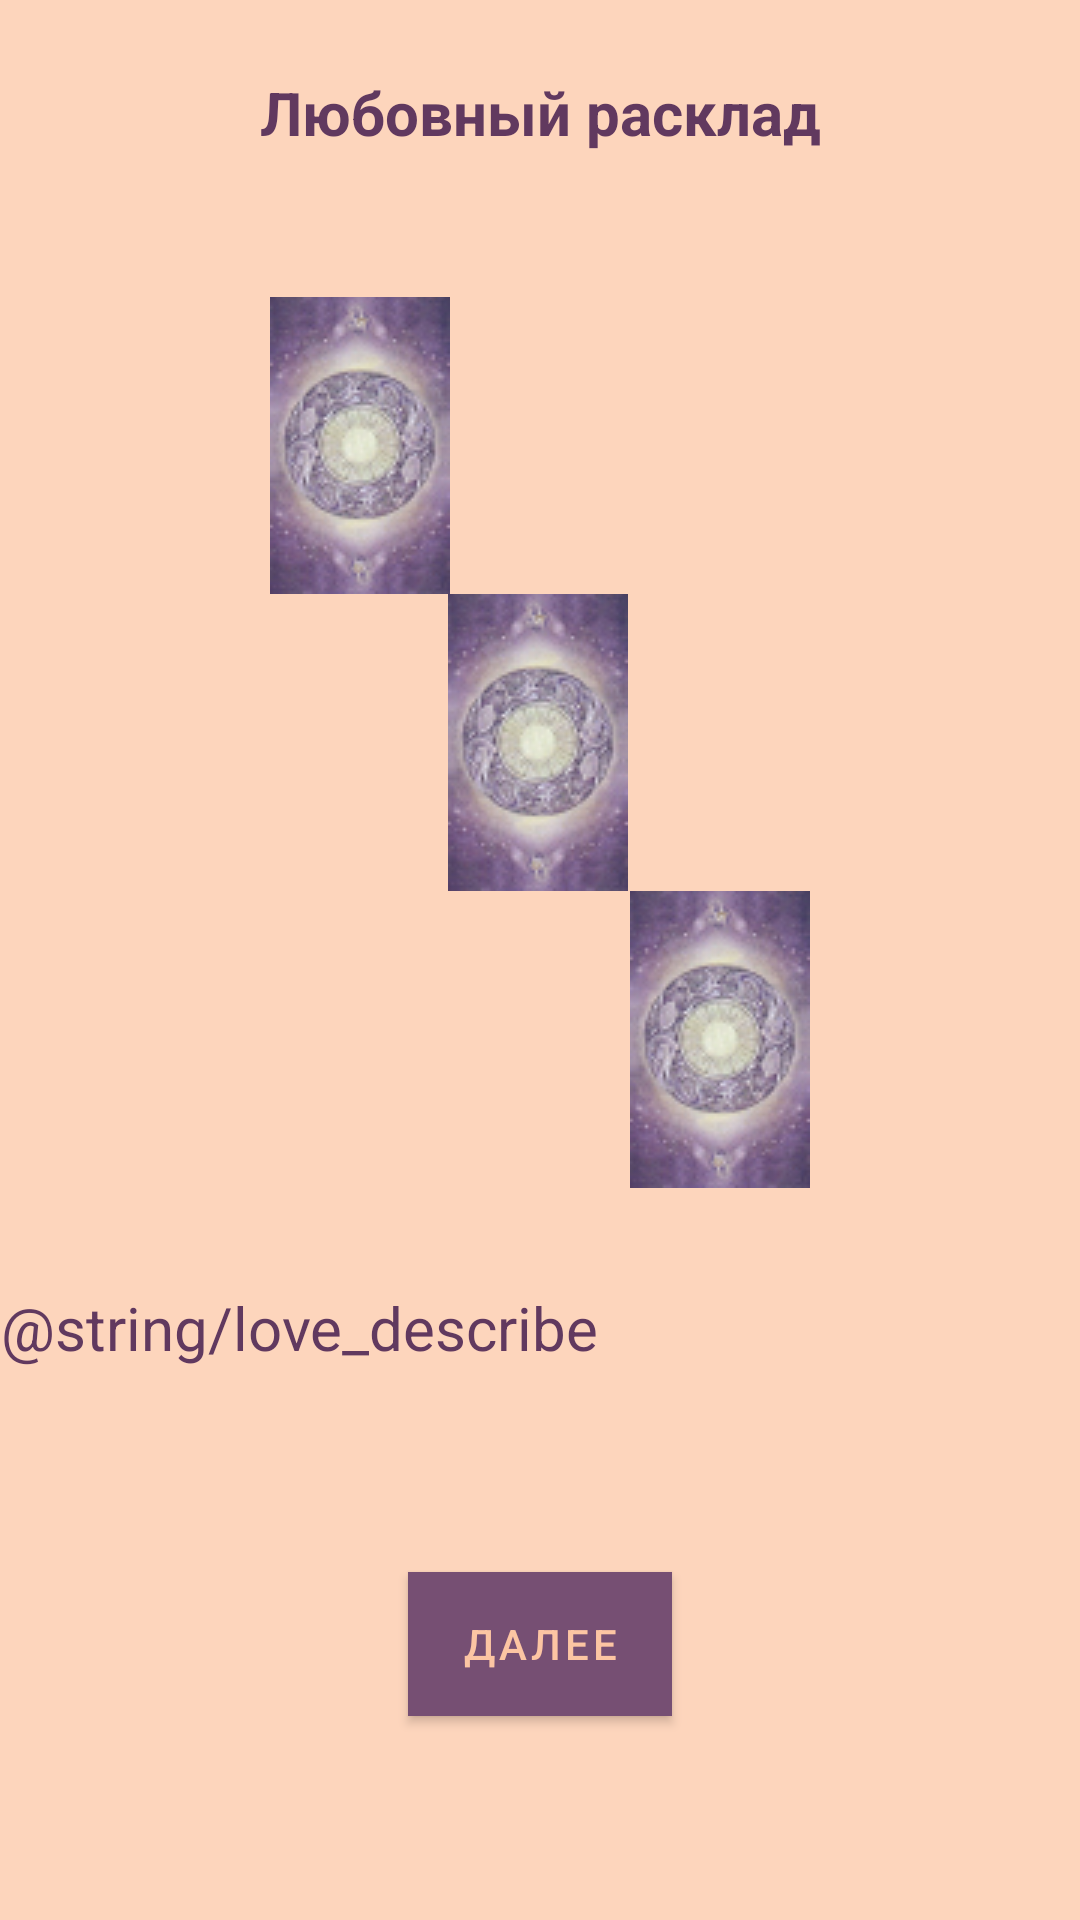

Point at icon controls on the screen. Image size 1080*1920, points as point (x, y).
koloda: point (360, 445), point (538, 742), point (720, 1039)
